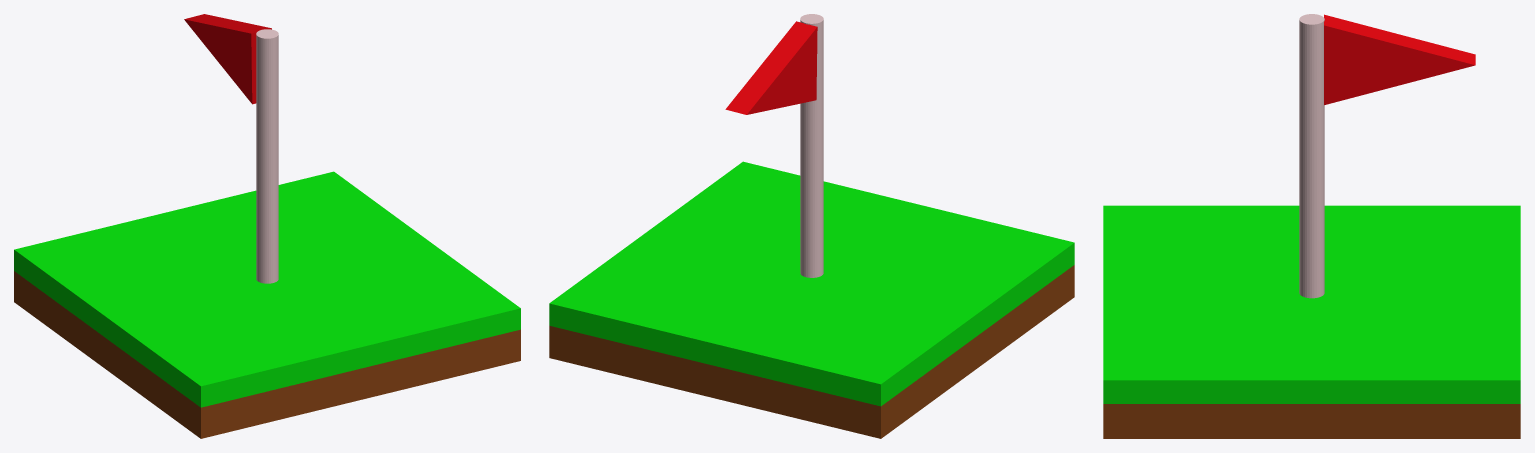
Rendered from flag.glb.
3 renders of one model, left to right at view 1: azimuth 30°, elevation 25°; view 2: azimuth 150°, elevation 25°; view 3: azimuth 270°, elevation 25°, orthographic. The views are drawn at different scales.
Visible parts, largest first — view 1: grass, Cube, Cylinder, Cylinder.001; view 2: grass, Cube, Cylinder, Cylinder.001; view 3: grass, Cube, Cylinder.001, Cylinder.
Boxes of the visible parts, <box> form: grass: <box>14,171,520,407</box>; Cube: <box>14,271,520,438</box>; Cylinder: <box>256,29,278,283</box>; Cylinder.001: <box>184,14,271,104</box>; grass: <box>549,161,1074,406</box>; Cube: <box>549,265,1074,438</box>; Cylinder: <box>800,14,823,277</box>; Cylinder.001: <box>725,21,817,114</box>; grass: <box>1103,205,1520,403</box>; Cube: <box>1103,404,1520,438</box>; Cylinder.001: <box>1324,14,1475,105</box>; Cylinder: <box>1299,14,1324,298</box>.
Bounding box in the file's own units: 1.94 × 1.73 × 1.97.
